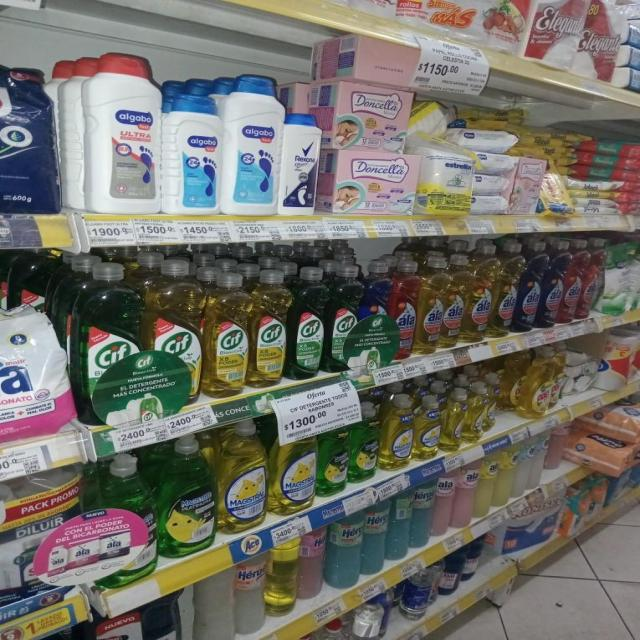ala_conc_amarillo: (466, 243, 493, 343), (418, 254, 442, 355), (442, 251, 465, 349), (493, 241, 516, 338)
ala_conc_azul: (517, 242, 540, 333), (541, 240, 562, 328)
ala_conc_rojo: (391, 258, 417, 361), (562, 239, 582, 324), (582, 238, 601, 320)
ala_crem_amarillo: (477, 452, 496, 518), (497, 446, 514, 508)
ala_crem_rosado: (455, 462, 476, 527), (434, 468, 454, 534)
cif_conc_bot_amarilla: (144, 256, 202, 414), (204, 264, 248, 397), (250, 264, 287, 389)
cif_conc_botella_verde: (75, 259, 143, 424), (288, 264, 324, 380), (327, 262, 358, 374)
heroe: (326, 510, 361, 589), (234, 552, 266, 636), (267, 535, 299, 616), (362, 500, 386, 576), (300, 527, 324, 601), (411, 478, 433, 550)
magistral_con_amarillo: (219, 420, 267, 532), (271, 422, 316, 514), (383, 394, 413, 469), (414, 394, 440, 460), (443, 387, 466, 452)
magistral_con_verde: (158, 435, 216, 558)
